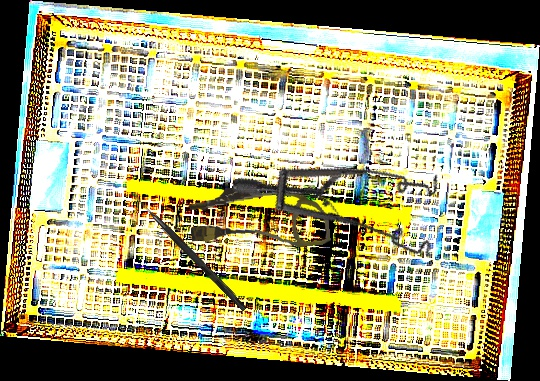Cannula: (186, 177, 332, 259)
Hook Surgical: (127, 190, 249, 312)
Speculum: (229, 119, 462, 306)
